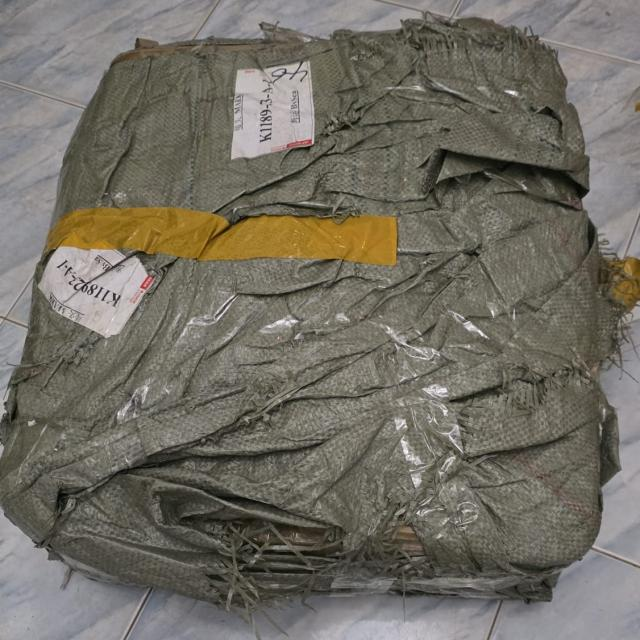export_mark_label: (34, 241, 186, 347), (219, 57, 354, 159)
